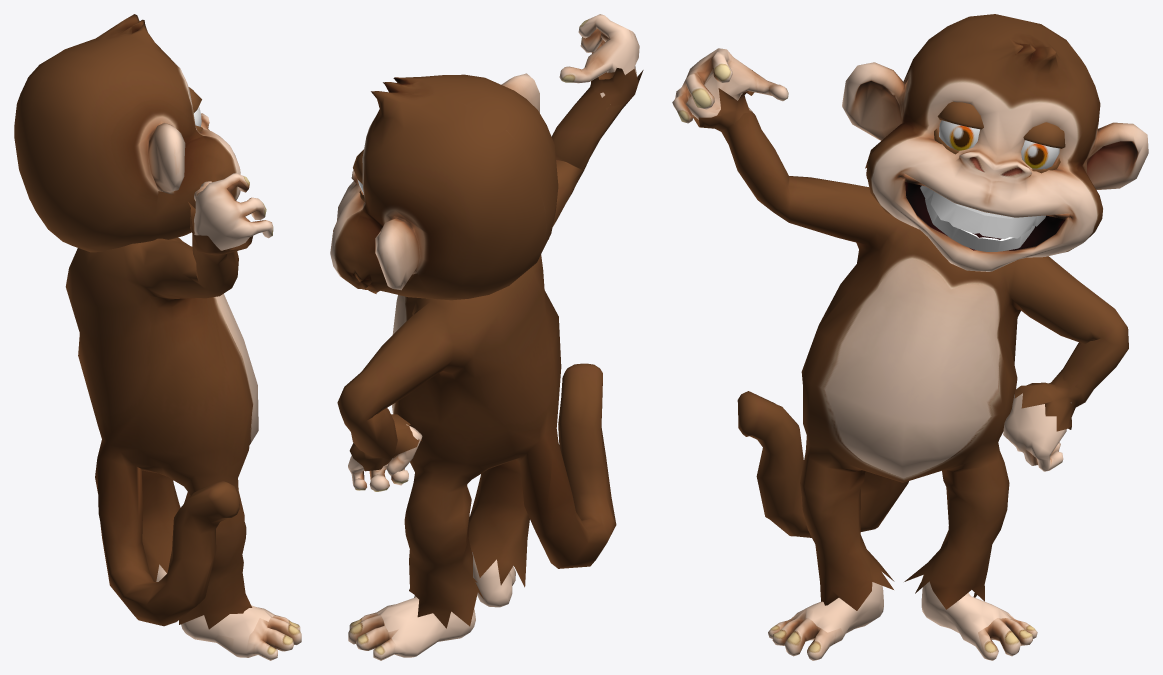
File: opice_hneda.glb
3 views of the same model, side by side, from view 1: azimuth 30°, elevation 25°; view 2: azimuth 150°, elevation 25°; view 3: azimuth 270°, elevation 25° (orthographic). The views are drawn at different scales.
Parts seen in each view (by area): view 1: Monkey_Body.001_0; view 2: Monkey_Body.001_0; view 3: Monkey_Body.001_0, Monkey_Teeth_Up_8, Monkey_Teeth_Down_7, Monkey_Eye_R_2, Monkey_Eyelid_Rightup_6, Monkey_Eye_L_1, Monkey_Eyelid_Leftup_4.
Part boxes in pixels (bbox=[...]): Monkey_Body.001_0: bbox=[14, 14, 301, 660]; Monkey_Body.001_0: bbox=[330, 14, 643, 660]; Monkey_Body.001_0: bbox=[672, 14, 1148, 660]; Monkey_Teeth_Up_8: bbox=[920, 185, 1045, 239]; Monkey_Teeth_Down_7: bbox=[925, 199, 1034, 251]; Monkey_Eye_R_2: bbox=[939, 120, 979, 150]; Monkey_Eyelid_Rightup_6: bbox=[937, 101, 983, 129]; Monkey_Eye_L_1: bbox=[1021, 140, 1059, 169]; Monkey_Eyelid_Leftup_4: bbox=[1023, 122, 1065, 148].
Size of the model in its own units: 0.2089 by 0.6 by 0.4368.
Materials: 2 (2 with a texture image).
